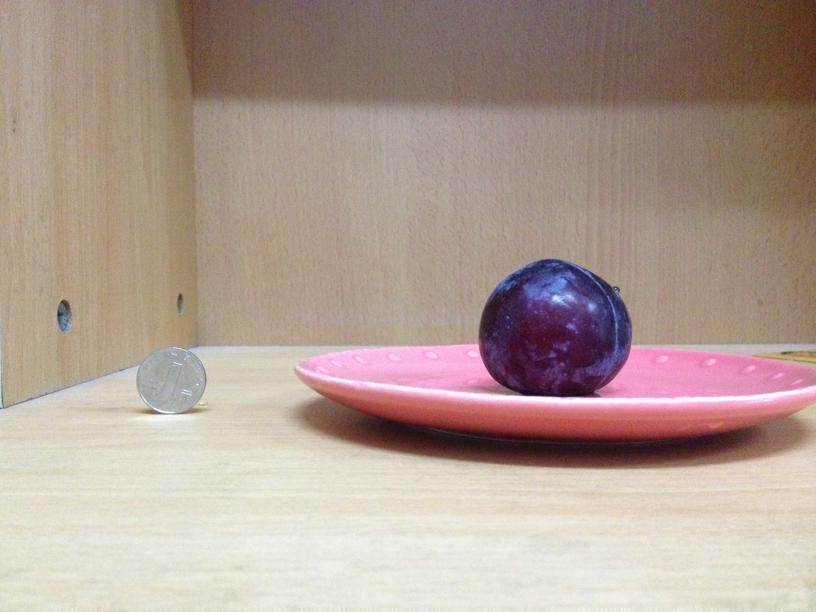coin: (136, 348, 207, 415)
plum: (483, 259, 632, 394)
